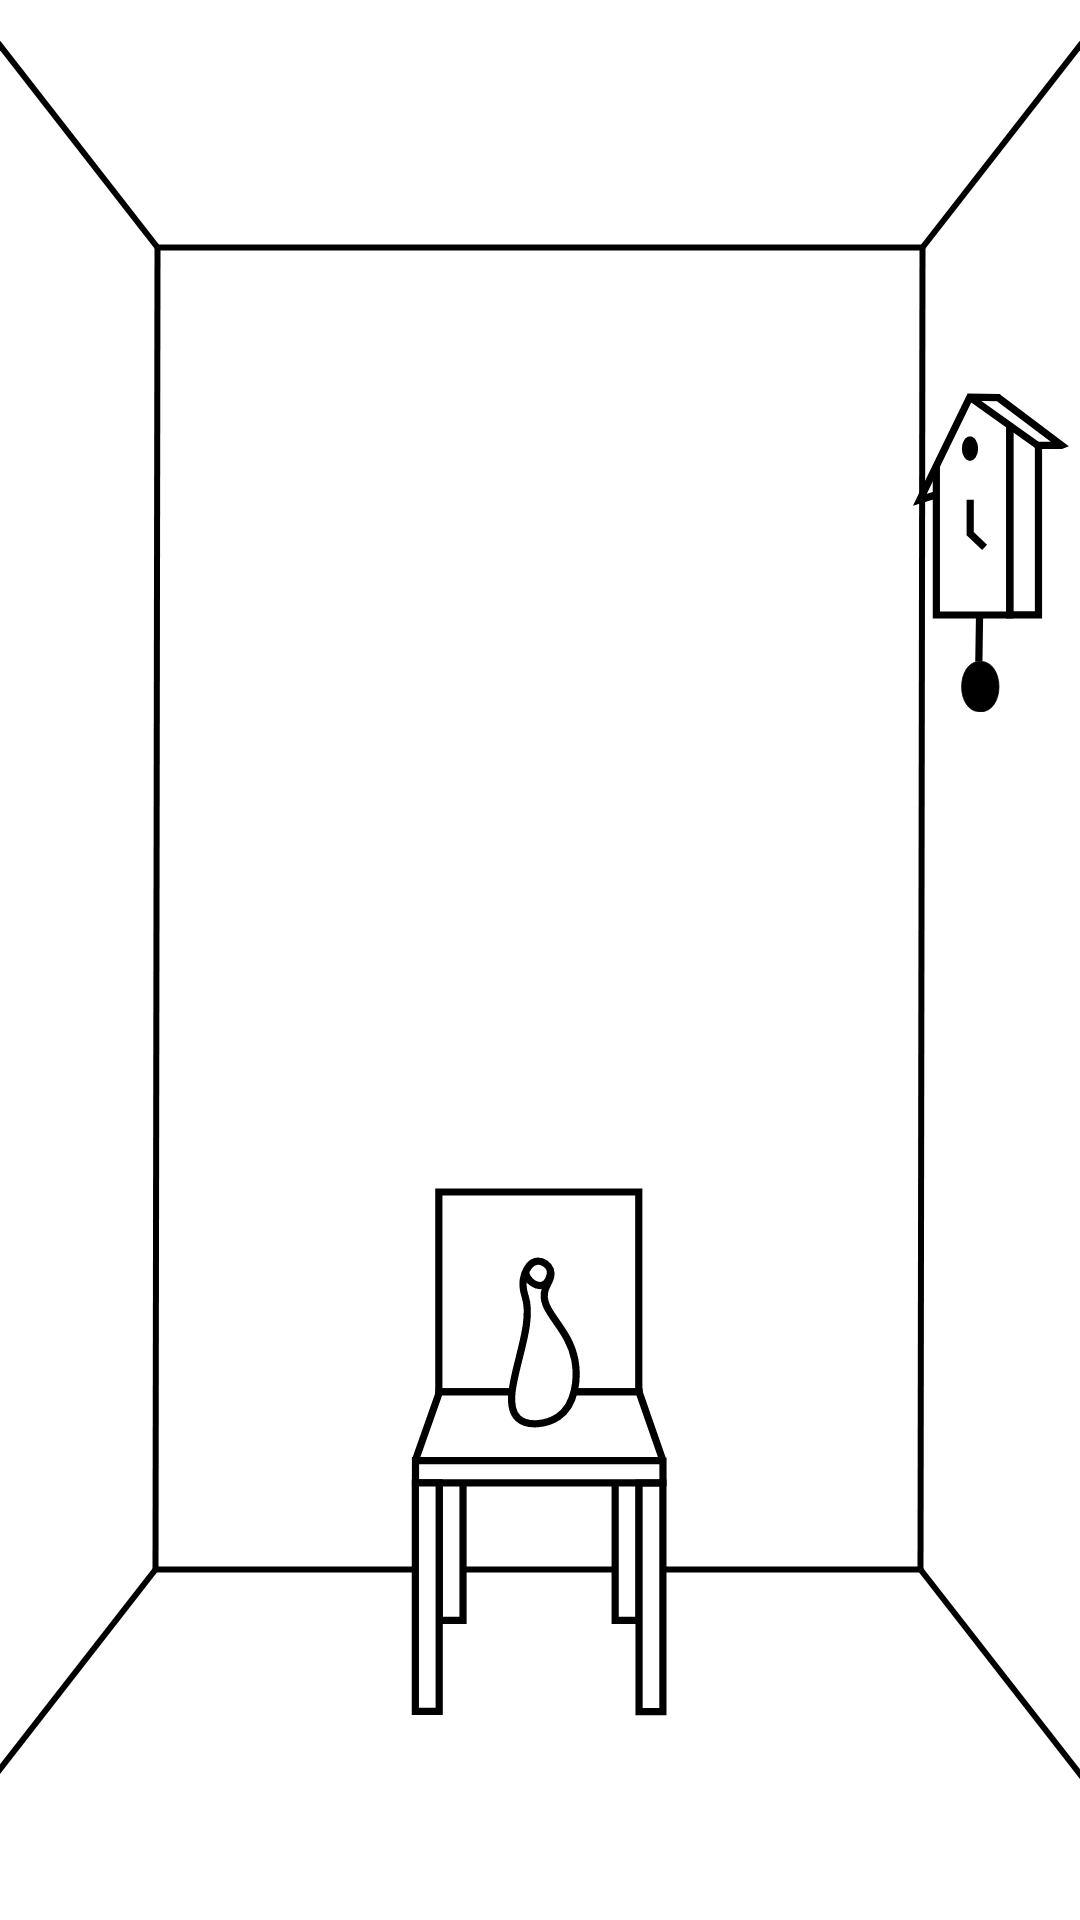

Icons on this 1080px×1920px Android screen, each with its box as rect(x1, y1, x2, y2):
pic clock: rect(913, 390, 1069, 714)
